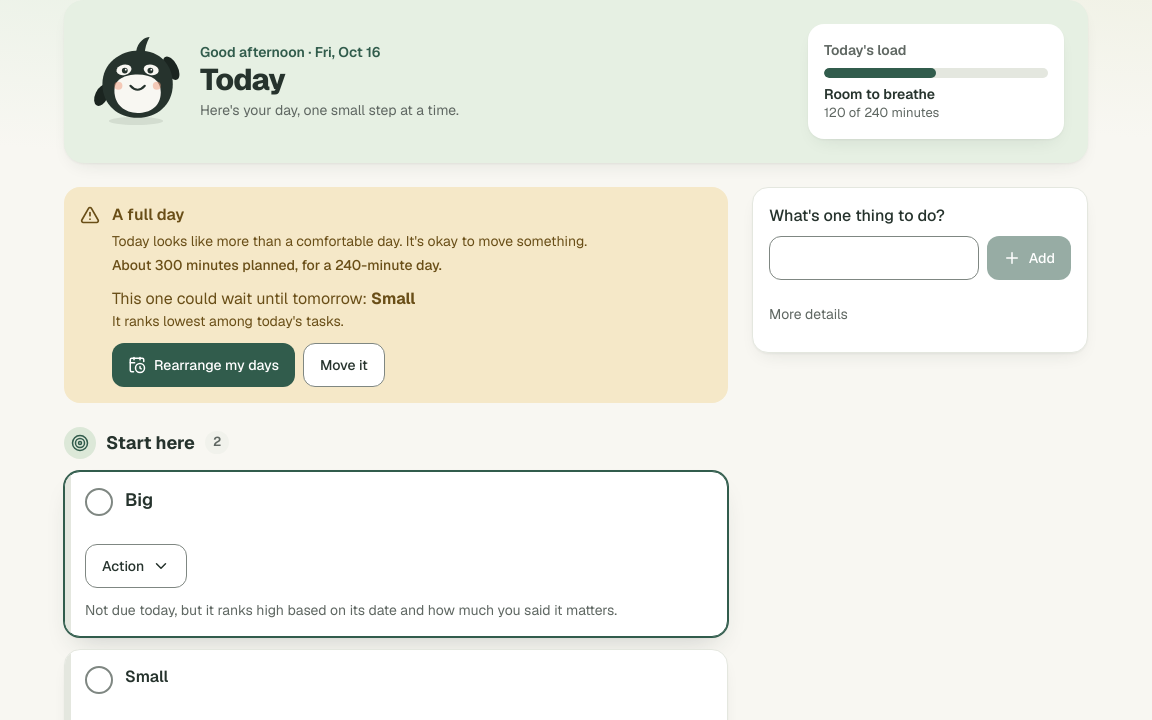
TodayView › rearranges an overfull day: preview first, then the notice goes away once it fits
Click the button "Rearrange my days" at coordinates (203, 365), box [112, 343, 295, 387]
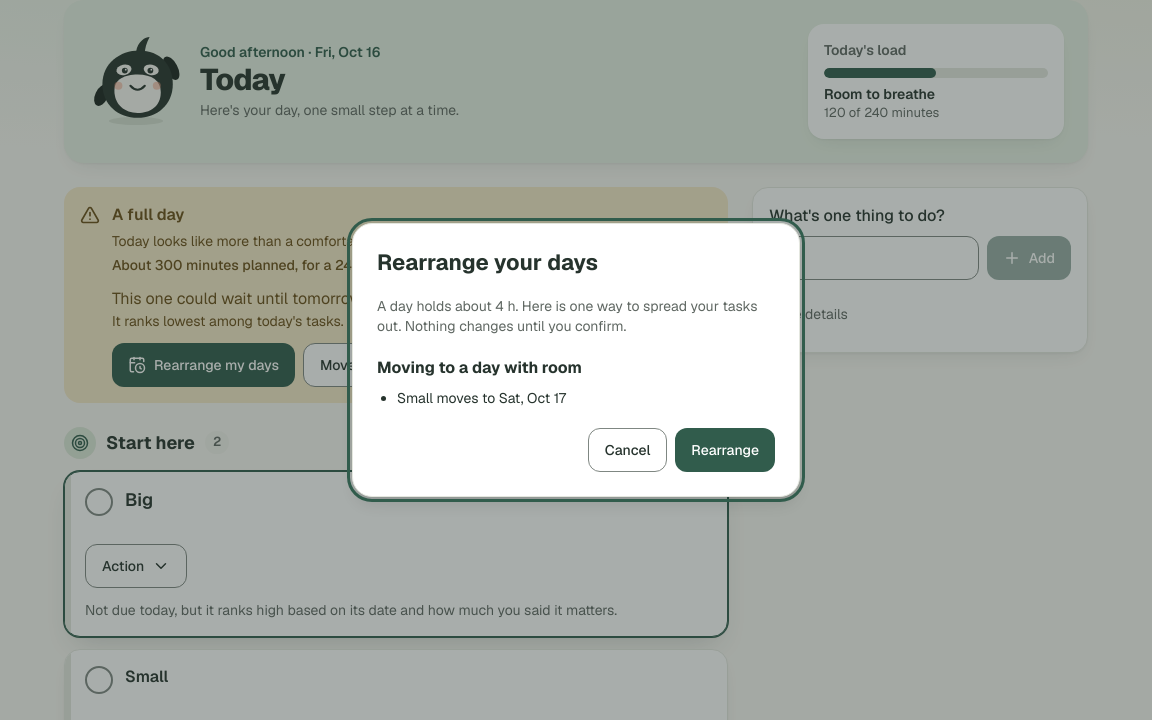
Expected: the heading "A full day" is shown, [112, 204, 184, 225]
Result: the heading "Moving to a day with room" is shown at [377, 357, 582, 378]
Click the button "Rearrange" at coordinates (725, 450), box [675, 428, 775, 472]
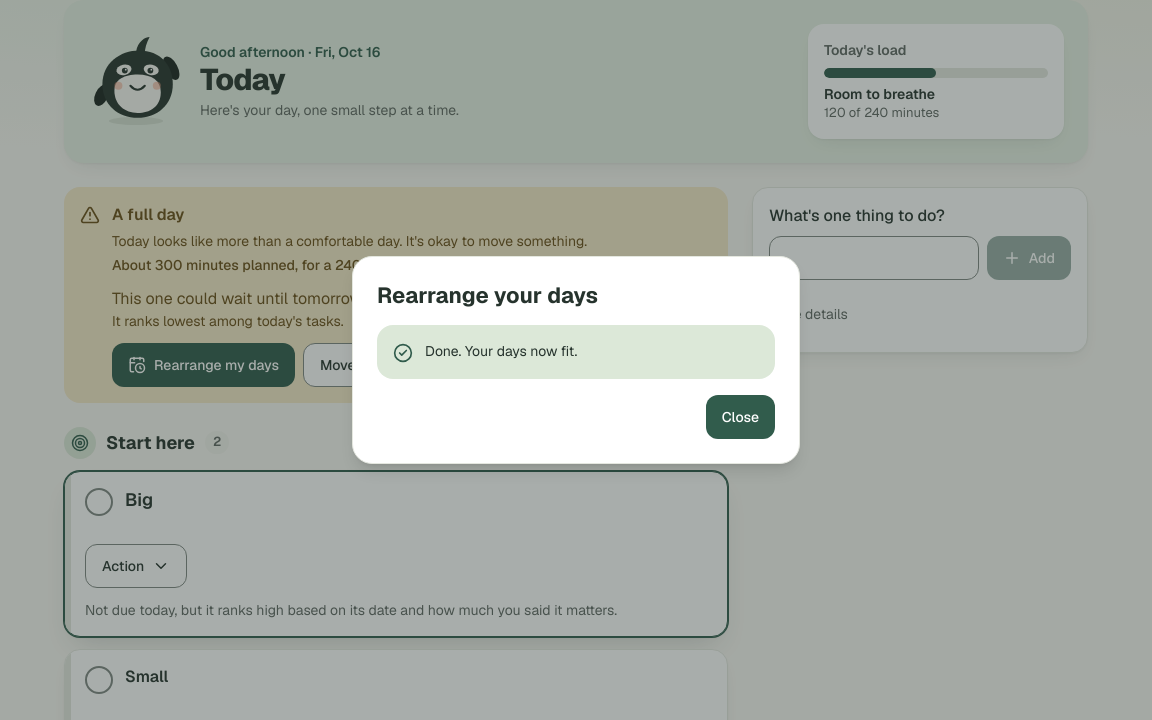
Result: the text "Done. Your days now fit." is shown at [425, 342, 577, 360]
Click the button "Close" at coordinates (740, 417), box [706, 395, 775, 439]
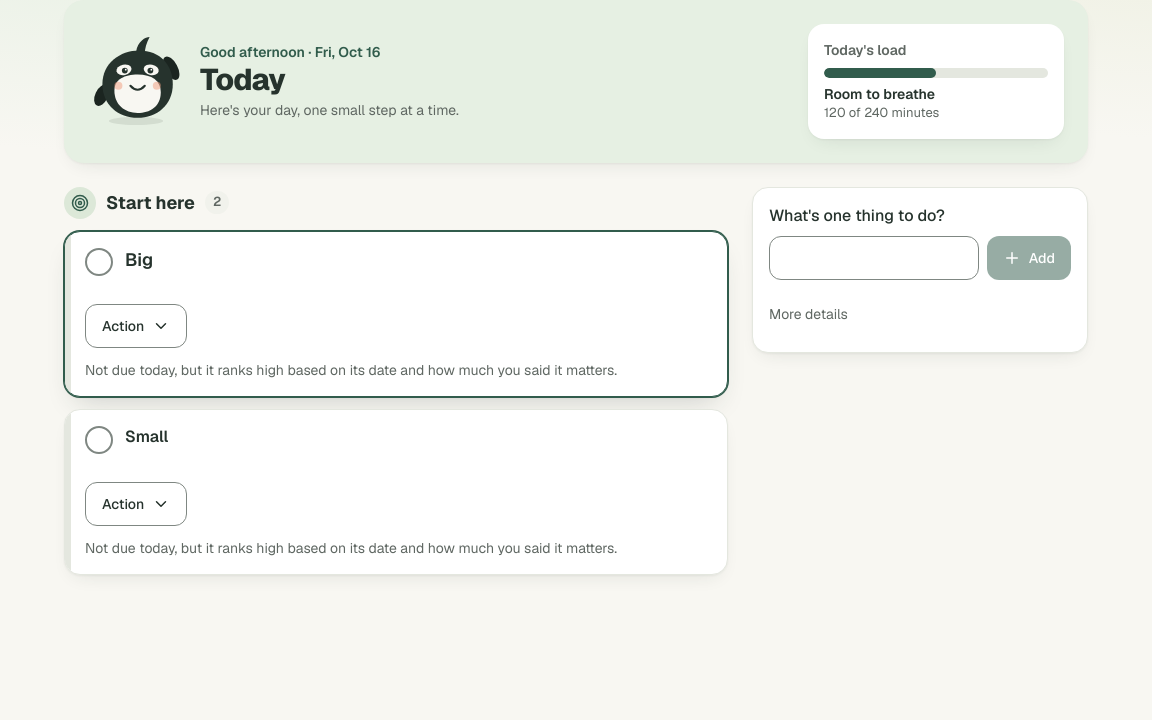
Result: the heading "A full day" is gone
